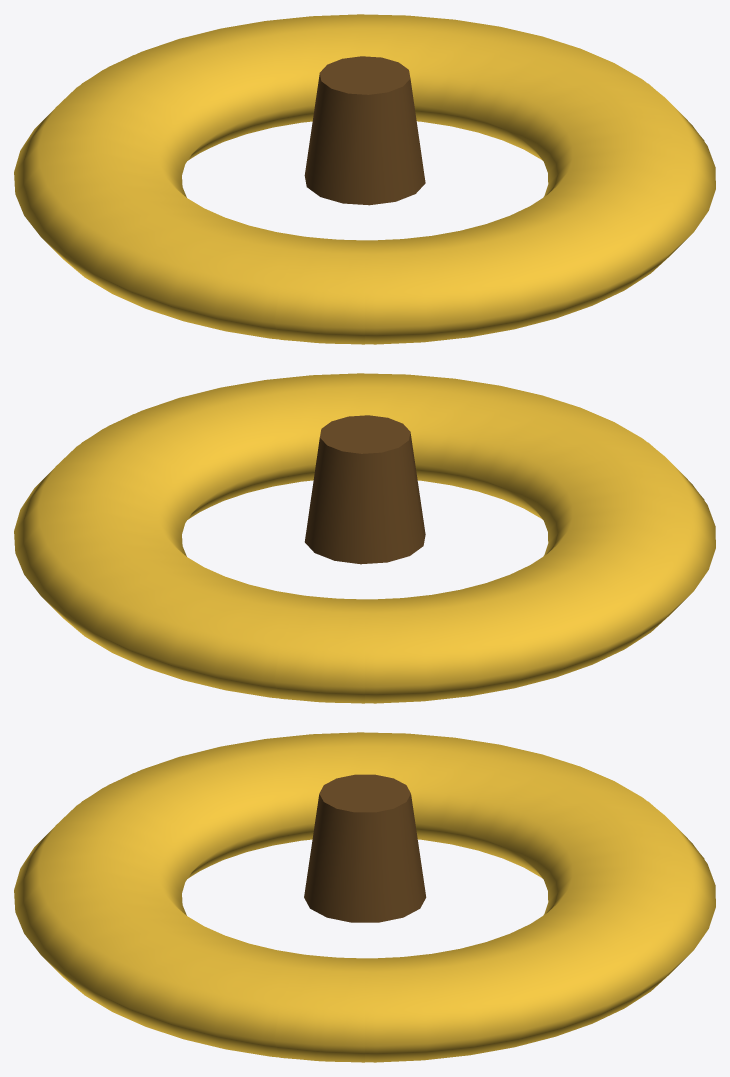
The model's file is waste_banana.fbx.
The picture shows the model from 3 angles, top to bottom: view 1: azimuth 30°, elevation 25°; view 2: azimuth 150°, elevation 25°; view 3: azimuth 270°, elevation 25°; orthographic projection.
Visible parts, largest first — view 1: M__waste_banana; view 2: M__waste_banana; view 3: M__waste_banana.
Part boxes in pixels (x1=…): M__waste_banana: x1=14, y1=14, x2=715, y2=344; M__waste_banana: x1=14, y1=373, x2=715, y2=703; M__waste_banana: x1=14, y1=732, x2=715, y2=1062.
Bounding box in the file's own units: 0.184 × 0.041 × 0.1837.
